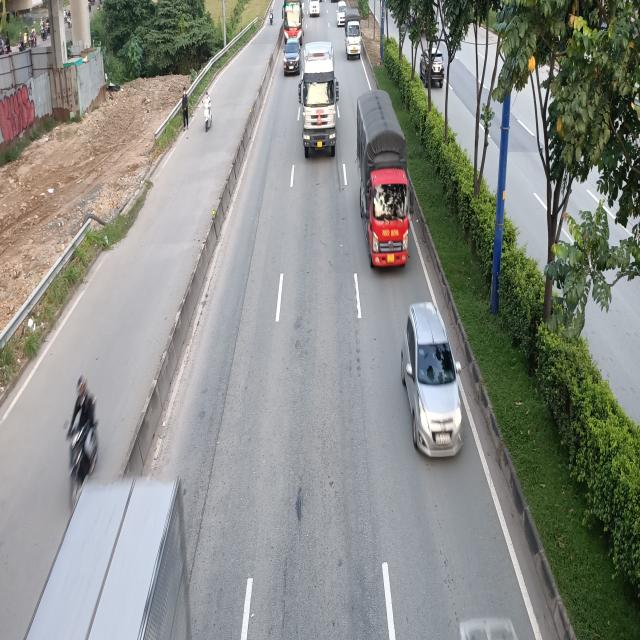car: (402, 301, 463, 457), (283, 38, 302, 74), (337, 1, 346, 26)
coach: (283, 1, 304, 38)
container: (299, 39, 338, 158)
truck: (356, 91, 411, 273), (345, 8, 363, 60)
